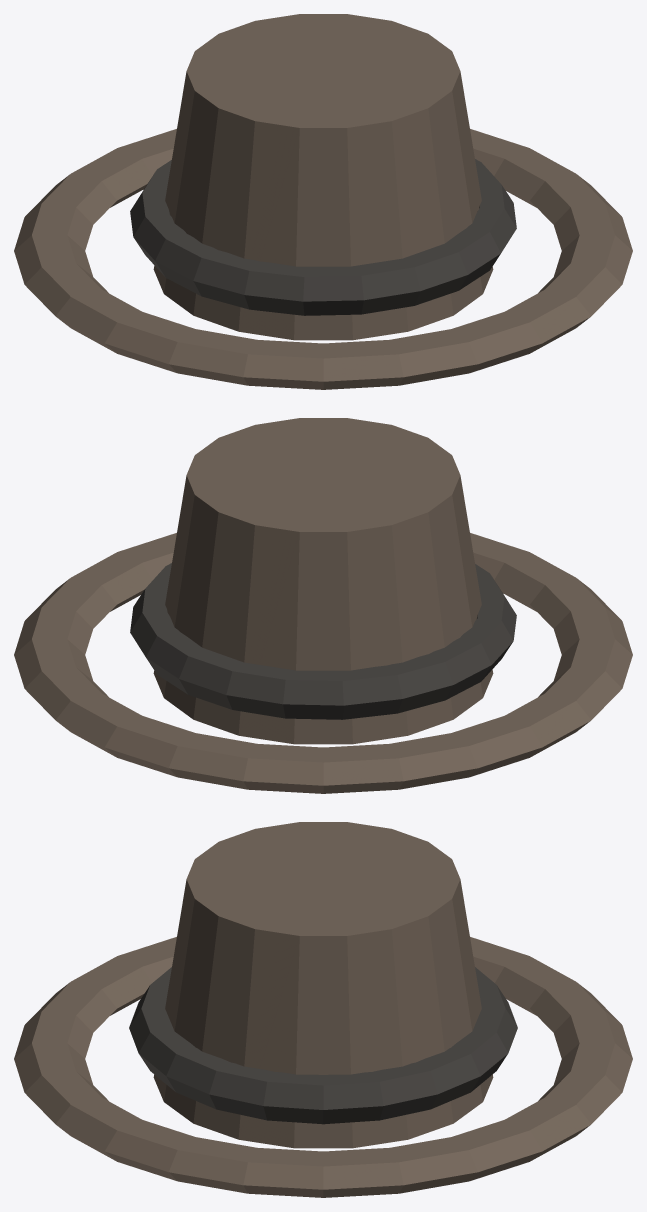
The model's file is WideHat.fbx.
3 renders of one model, top to bottom at view 1: azimuth 30°, elevation 25°; view 2: azimuth 150°, elevation 25°; view 3: azimuth 270°, elevation 25°, orthographic.
Visible parts, largest first — view 1: WideHat; view 2: WideHat; view 3: WideHat.
Boxes of the visible parts, x1,y1,x2,y2 form: WideHat: (14, 14, 632, 389); WideHat: (14, 418, 632, 793); WideHat: (14, 822, 632, 1197).
Bounding box in the file's own units: 25.31 × 8.96 × 25.31.
